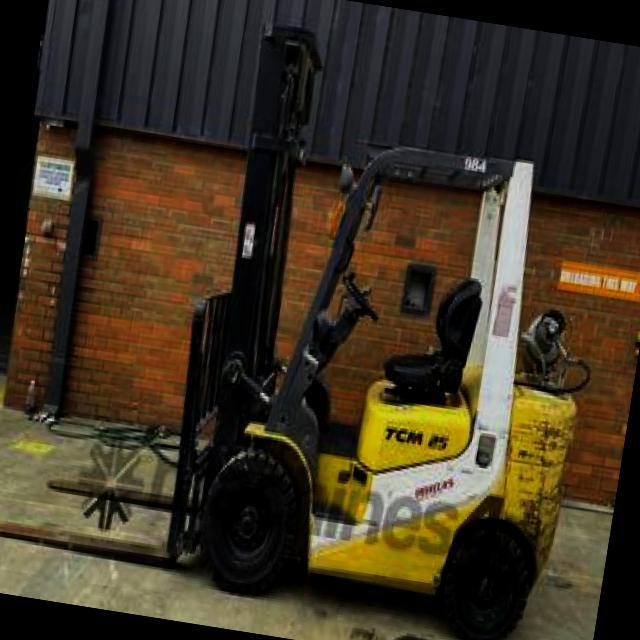forklift: (113, 5, 632, 640)
